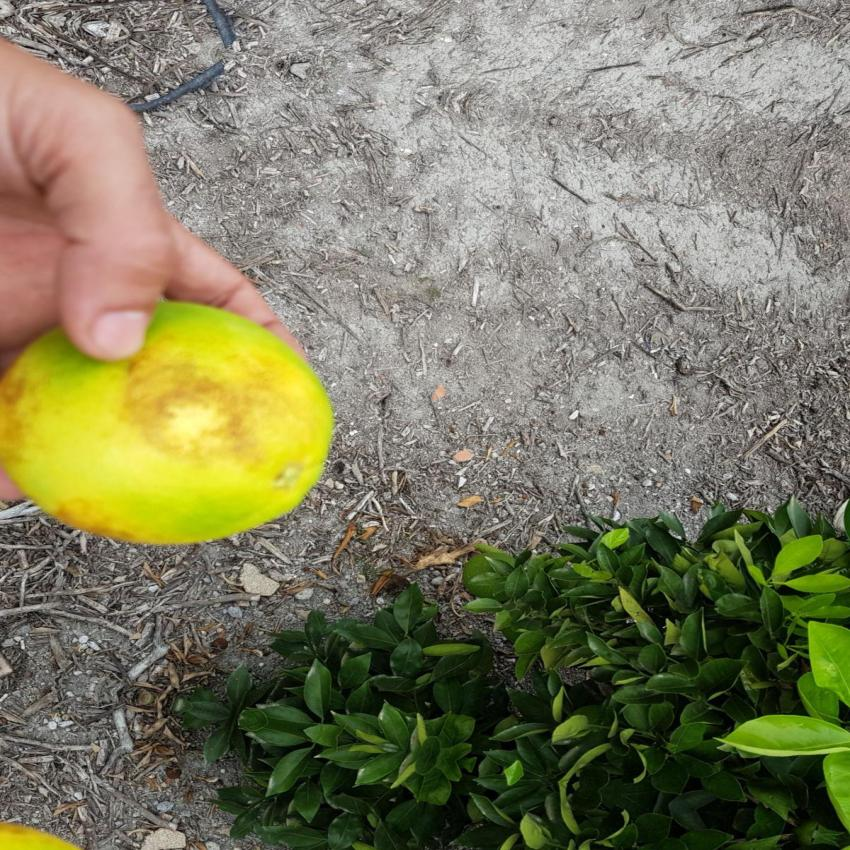Mal estado: (0, 288, 346, 539)
